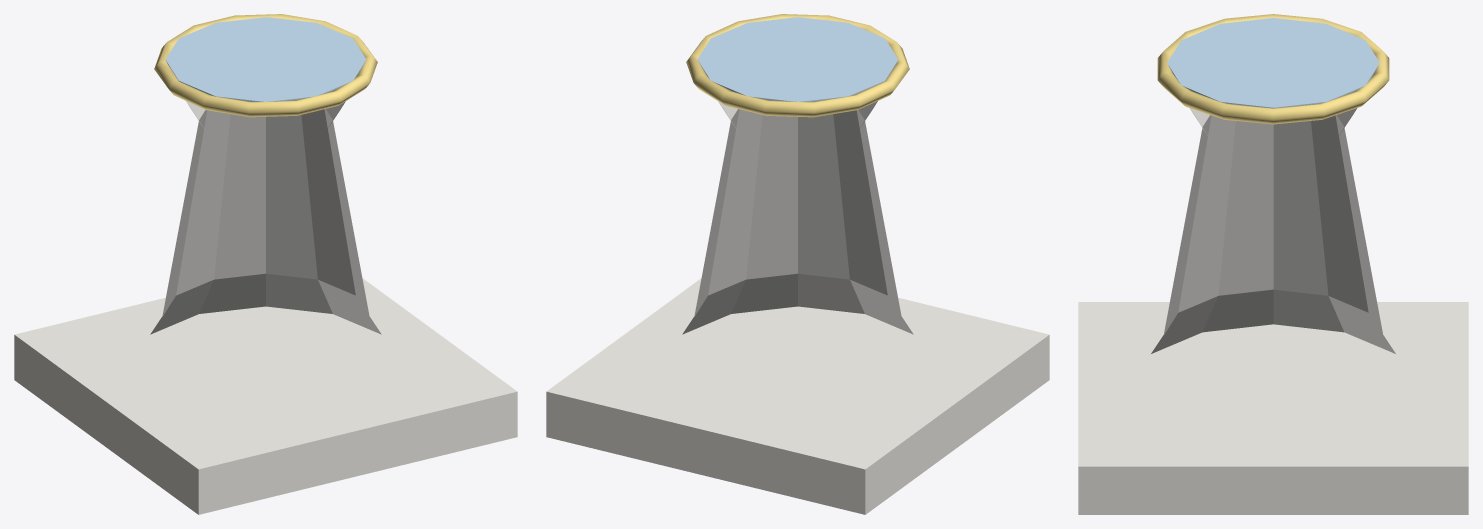
File: mythic-underworld-and-olympus-scrying-basin-d3383a88__21394.glb
The picture shows the model from 3 angles, left to right: view 1: azimuth 30°, elevation 25°; view 2: azimuth 150°, elevation 25°; view 3: azimuth 270°, elevation 25°; orthographic projection. The views are drawn at different scales.
Parts seen in each view (by area): view 1: scrying-basin; view 2: scrying-basin; view 3: scrying-basin.
Boxes of the visible parts, x1,y1,x2,y2 form: scrying-basin: (14, 14, 517, 514); scrying-basin: (546, 14, 1049, 514); scrying-basin: (1078, 14, 1468, 514).
Bounding box in the file's own units: 2.2 × 2.31 × 2.2.
